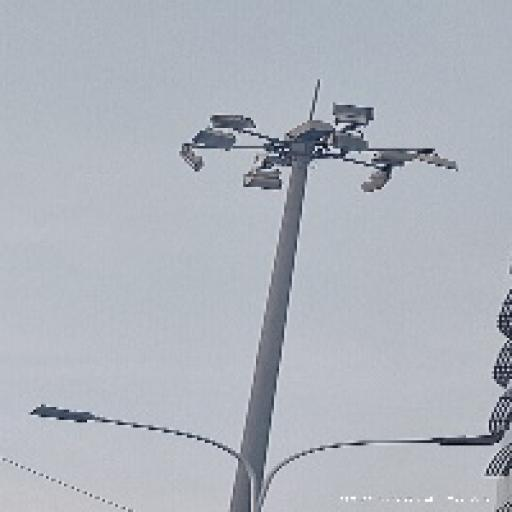Not Working: (22, 397, 114, 436), (428, 426, 502, 459), (288, 116, 334, 153), (330, 100, 380, 130), (354, 164, 396, 197), (188, 125, 238, 152), (238, 169, 287, 193), (176, 144, 210, 176), (418, 148, 458, 175), (207, 111, 257, 132)
